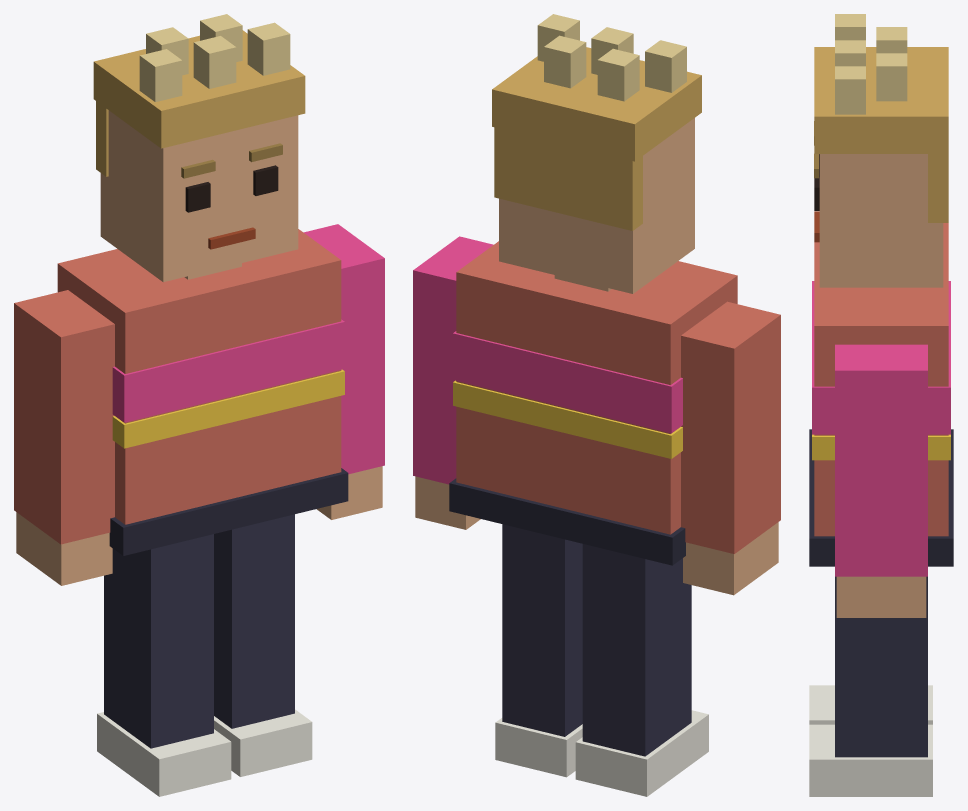
Rendered from elem2_student_2.glb.
3 views of the same model, side by side, from view 1: azimuth 30°, elevation 25°; view 2: azimuth 150°, elevation 25°; view 3: azimuth 270°, elevation 25° (orthographic).
Parts seen in each view (by area): view 1: Box9, Box14, Box7, Box5, Box1, Box20, Box10, Box3, Box12, Box6, Box11, Box2 (+10 smaller); view 2: Box9, Box7, Box5, Box14, Box1, Box20, Box10, Box26, Box3, Box12, Box11, Box6 (+8 smaller); view 3: Box3, Box14, Box9, Box1, Box20, Box2, Box4, Box10, Box12, Box22, Box21, Box26 (+5 smaller).
Part boxes in pixels (x1,y1,x2,y2): Box9: (57, 229, 341, 524); Box14: (100, 110, 298, 282); Box7: (14, 290, 114, 544); Box5: (104, 534, 213, 748); Box1: (214, 514, 294, 728); Box20: (93, 30, 305, 148); Box10: (112, 319, 344, 422); Box3: (303, 224, 384, 474); Box12: (109, 468, 348, 555); Box6: (97, 712, 231, 796); Box11: (112, 369, 344, 448); Box2: (214, 709, 312, 776); Box9: (456, 241, 737, 534); Box7: (681, 301, 780, 553); Box5: (582, 544, 691, 756); Box14: (499, 118, 694, 293); Box1: (502, 524, 582, 736); Box20: (492, 47, 701, 161); Box10: (453, 331, 682, 433); Box26: (494, 123, 642, 230); Box3: (413, 236, 493, 484); Box12: (449, 478, 685, 565); Box11: (453, 380, 682, 458); Box6: (575, 710, 708, 796); Box3: (835, 344, 927, 576); Box14: (819, 154, 943, 287); Box9: (814, 223, 948, 536); Box1: (835, 576, 927, 757); Box20: (814, 47, 948, 153); Box2: (809, 724, 932, 796); Box4: (836, 576, 926, 617); Box10: (812, 281, 950, 434); Box12: (809, 429, 953, 566); Box22: (876, 53, 907, 101); Box21: (835, 66, 865, 114); Box26: (928, 154, 948, 222).
Size of the model in its own units: 0.756 by 1.6 by 0.294.
